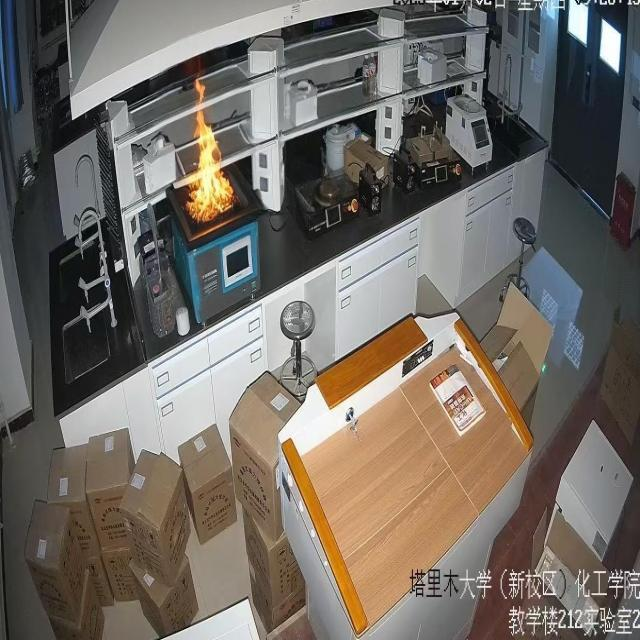smoke: (184, 74, 235, 223)
